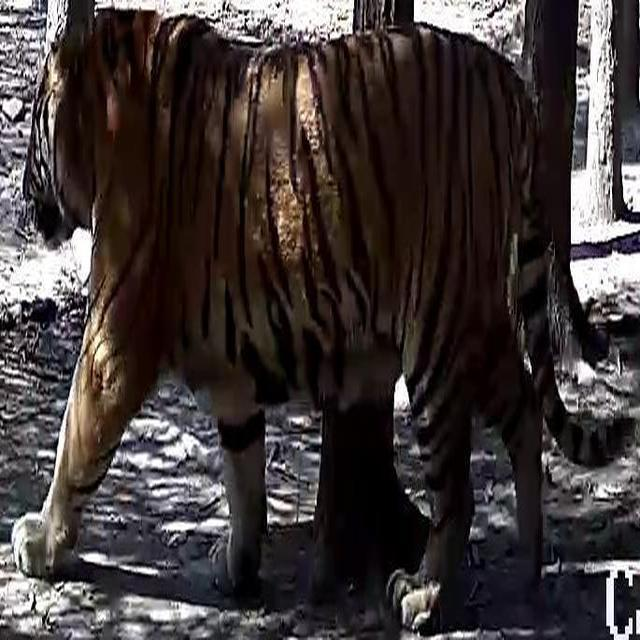tiger: (9, 6, 606, 633)
